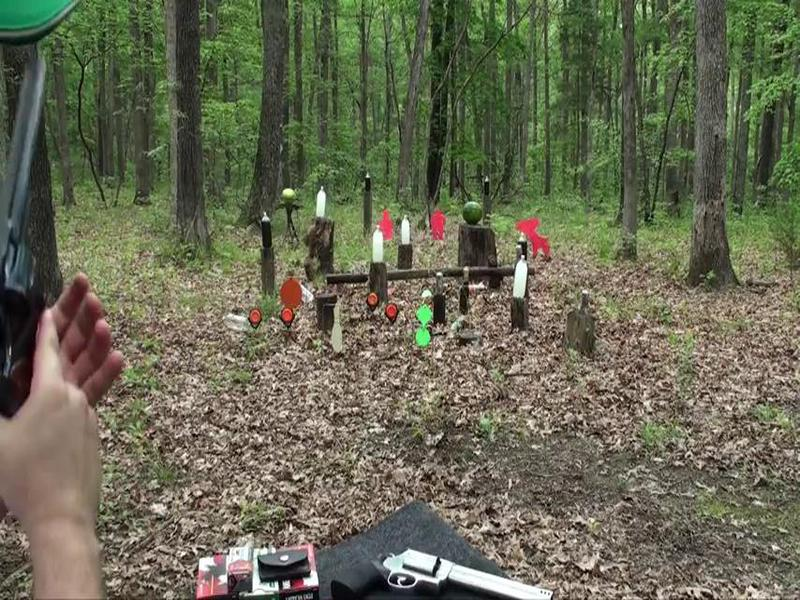Revolver: (1, 46, 97, 422)
